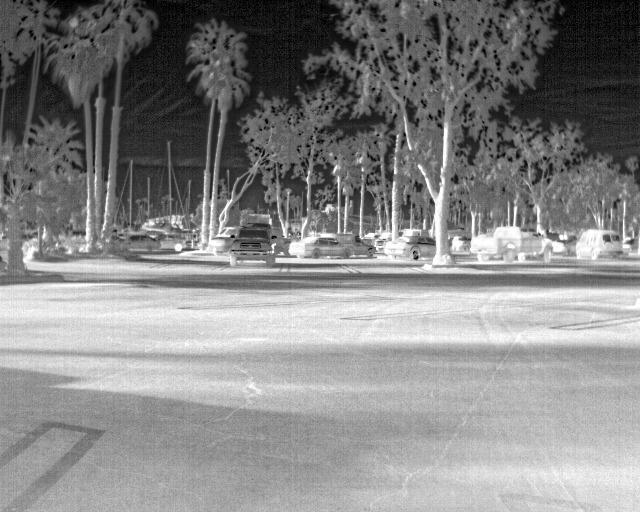car: (472, 223, 548, 261), (233, 224, 278, 264), (574, 227, 622, 258), (288, 235, 347, 259), (384, 233, 433, 261), (322, 235, 374, 258), (150, 230, 183, 249), (128, 233, 161, 249), (212, 230, 233, 254), (450, 233, 472, 250), (623, 238, 639, 259), (552, 234, 567, 253), (374, 235, 388, 250)
